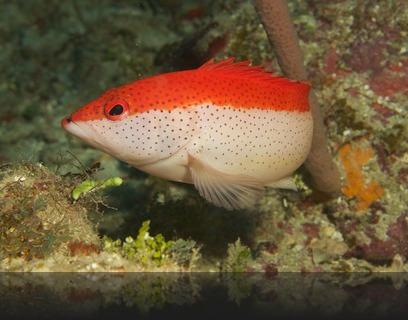Cephalopholis_fulvaw: (51, 51, 360, 210)
